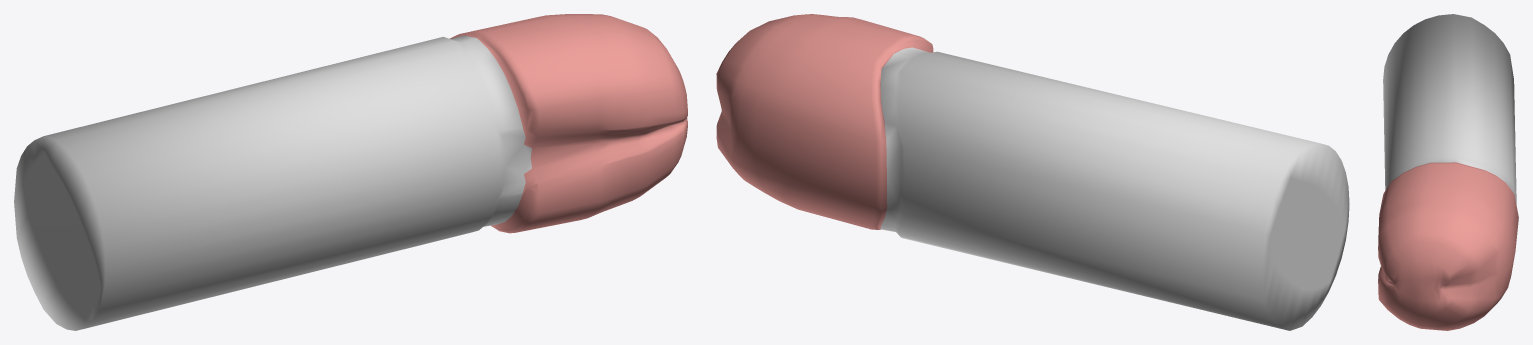
The model's file is PeePee.fbx.
3 renders of one model, left to right at view 1: azimuth 30°, elevation 25°; view 2: azimuth 150°, elevation 25°; view 3: azimuth 270°, elevation 25°, orthographic. The views are drawn at different scales.
Parts seen in each view (by area): view 1: PeePee; view 2: PeePee; view 3: PeePee.
Boxes of the visible parts, x1,y1,x2,y2 form: PeePee: [14, 14, 687, 330]; PeePee: [716, 14, 1349, 330]; PeePee: [1378, 14, 1518, 330].
Bounding box in the file's own units: 26.69 × 7.79 × 7.53.
